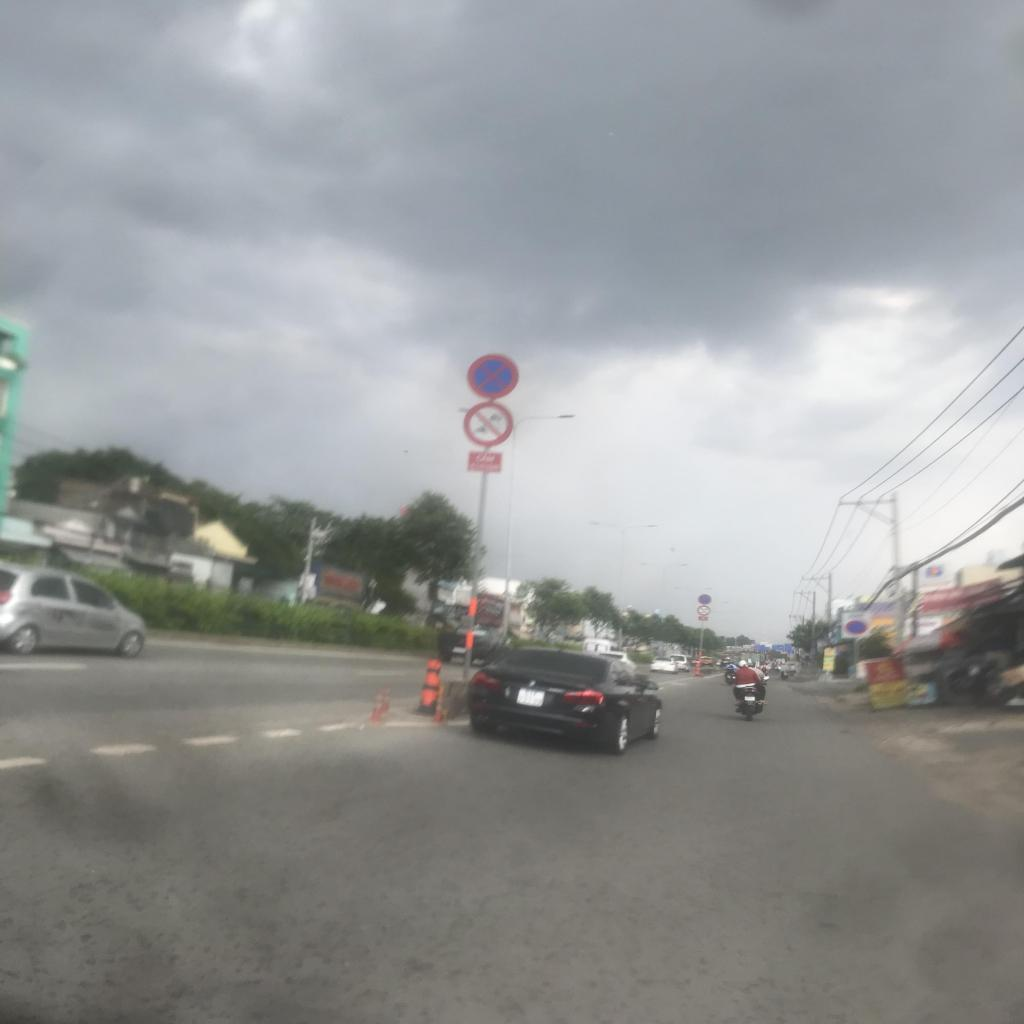cam_dung_xe_va_do_xe: (467, 354, 519, 400), (845, 620, 867, 634), (698, 594, 712, 604)
cam_xe_2_banh_va_xe_3_banh_co_dong_co: (464, 402, 514, 447), (697, 605, 711, 615)
